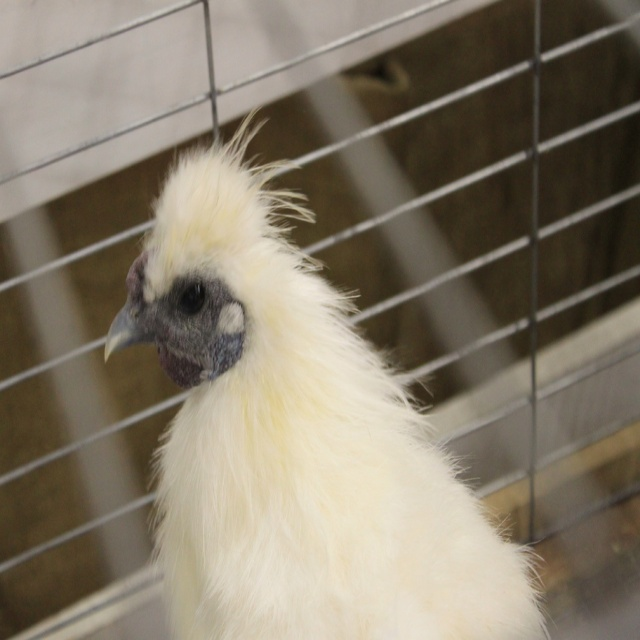Chicken: (107, 116, 562, 640)
